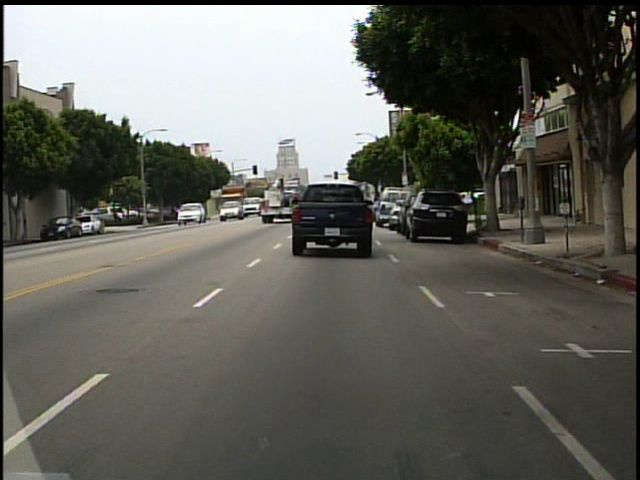person: (462, 186, 475, 206)
